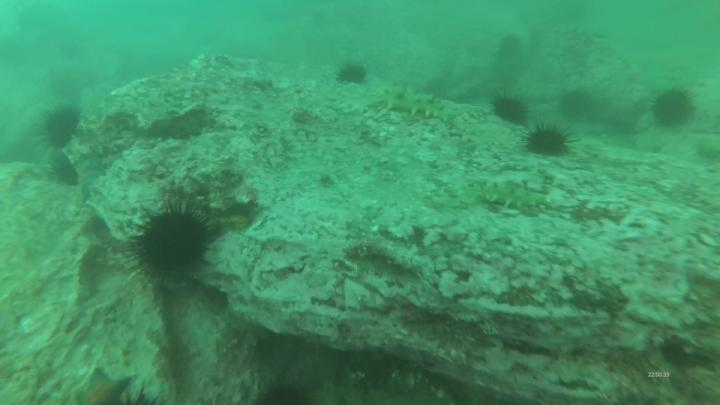echinus: (123, 196, 219, 291), (35, 104, 85, 156), (647, 85, 698, 134), (522, 120, 579, 159), (249, 379, 316, 405), (557, 88, 598, 128), (487, 91, 532, 127), (48, 154, 82, 188), (495, 31, 528, 62), (335, 61, 369, 87)
holothurian: (378, 82, 459, 124), (470, 179, 556, 217)
starfish: (74, 367, 132, 405)
